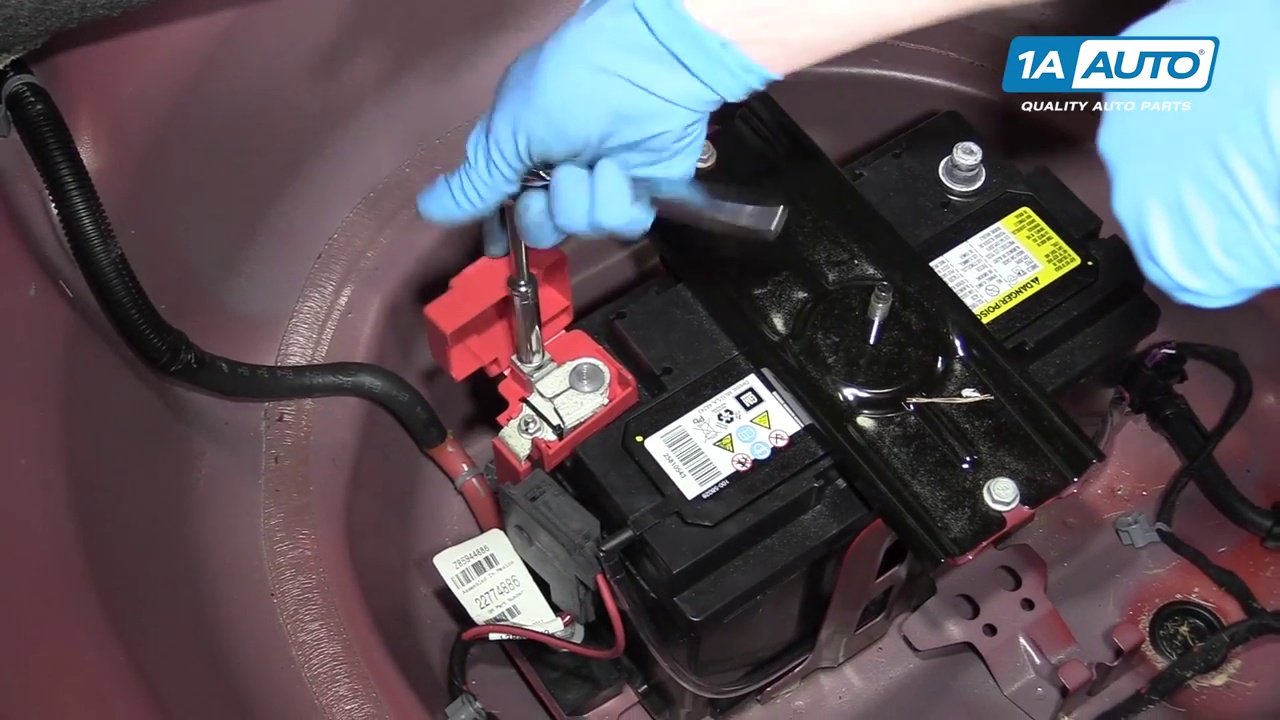battery: (491, 111, 1141, 573)
pos_connected: (456, 272, 662, 479)
pos_touched: (418, 104, 676, 463)
